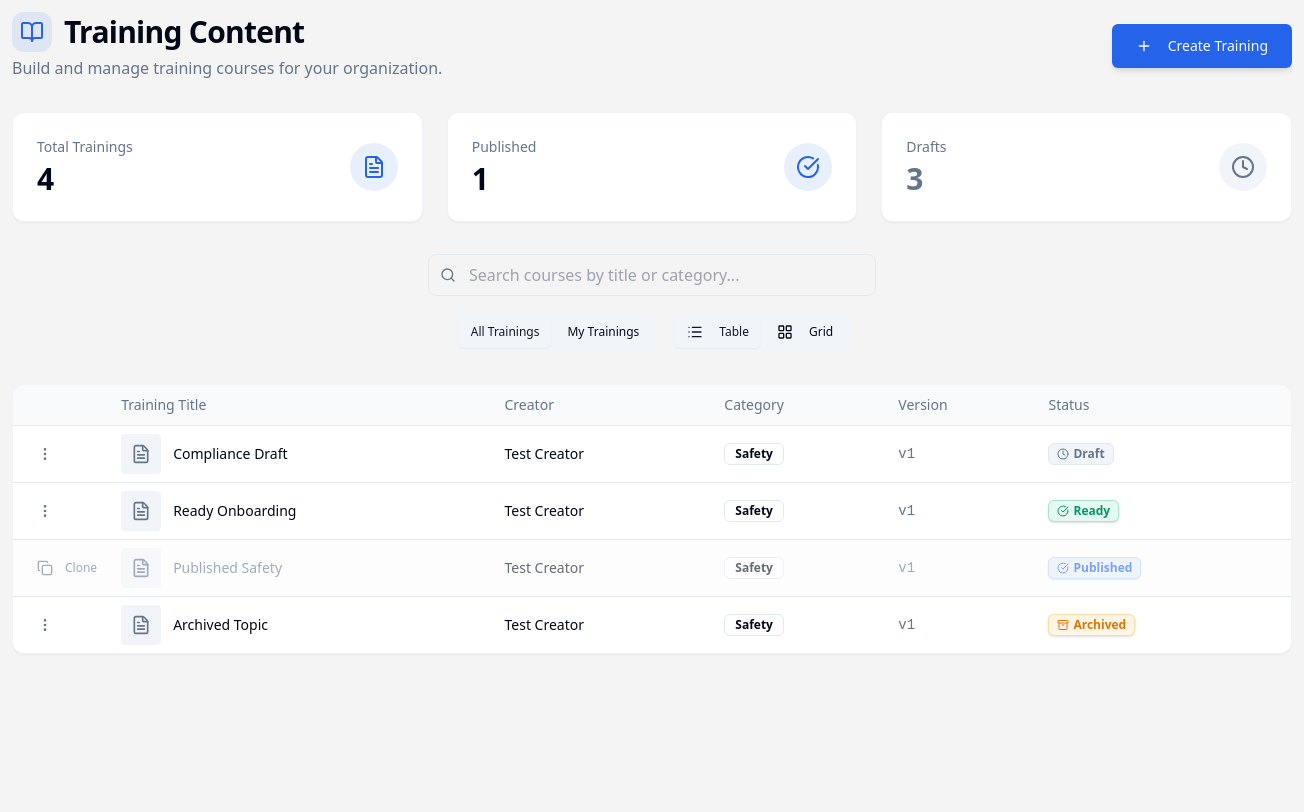
Scenario: ManagerTrainings (Course Studio) › search filters by title
Expected: the text "Compliance Draft" is shown, [173, 444, 288, 464]
Type "onboarding" into the field with placeholder "Search courses by title or category..." at coordinates (652, 275), box [428, 254, 876, 296]
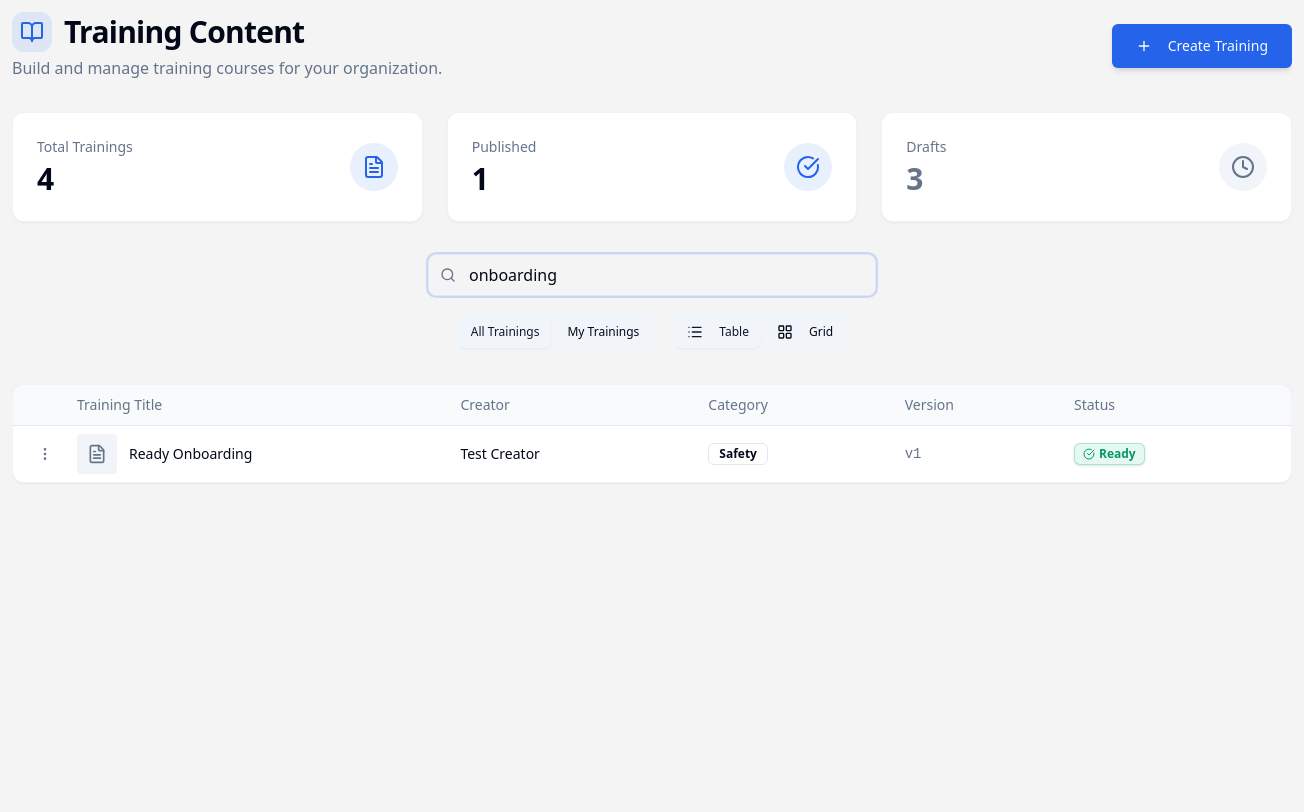
Expected: the text "Ready Onboarding" is shown, [129, 444, 252, 464]
Now the text "Compliance Draft" is gone
